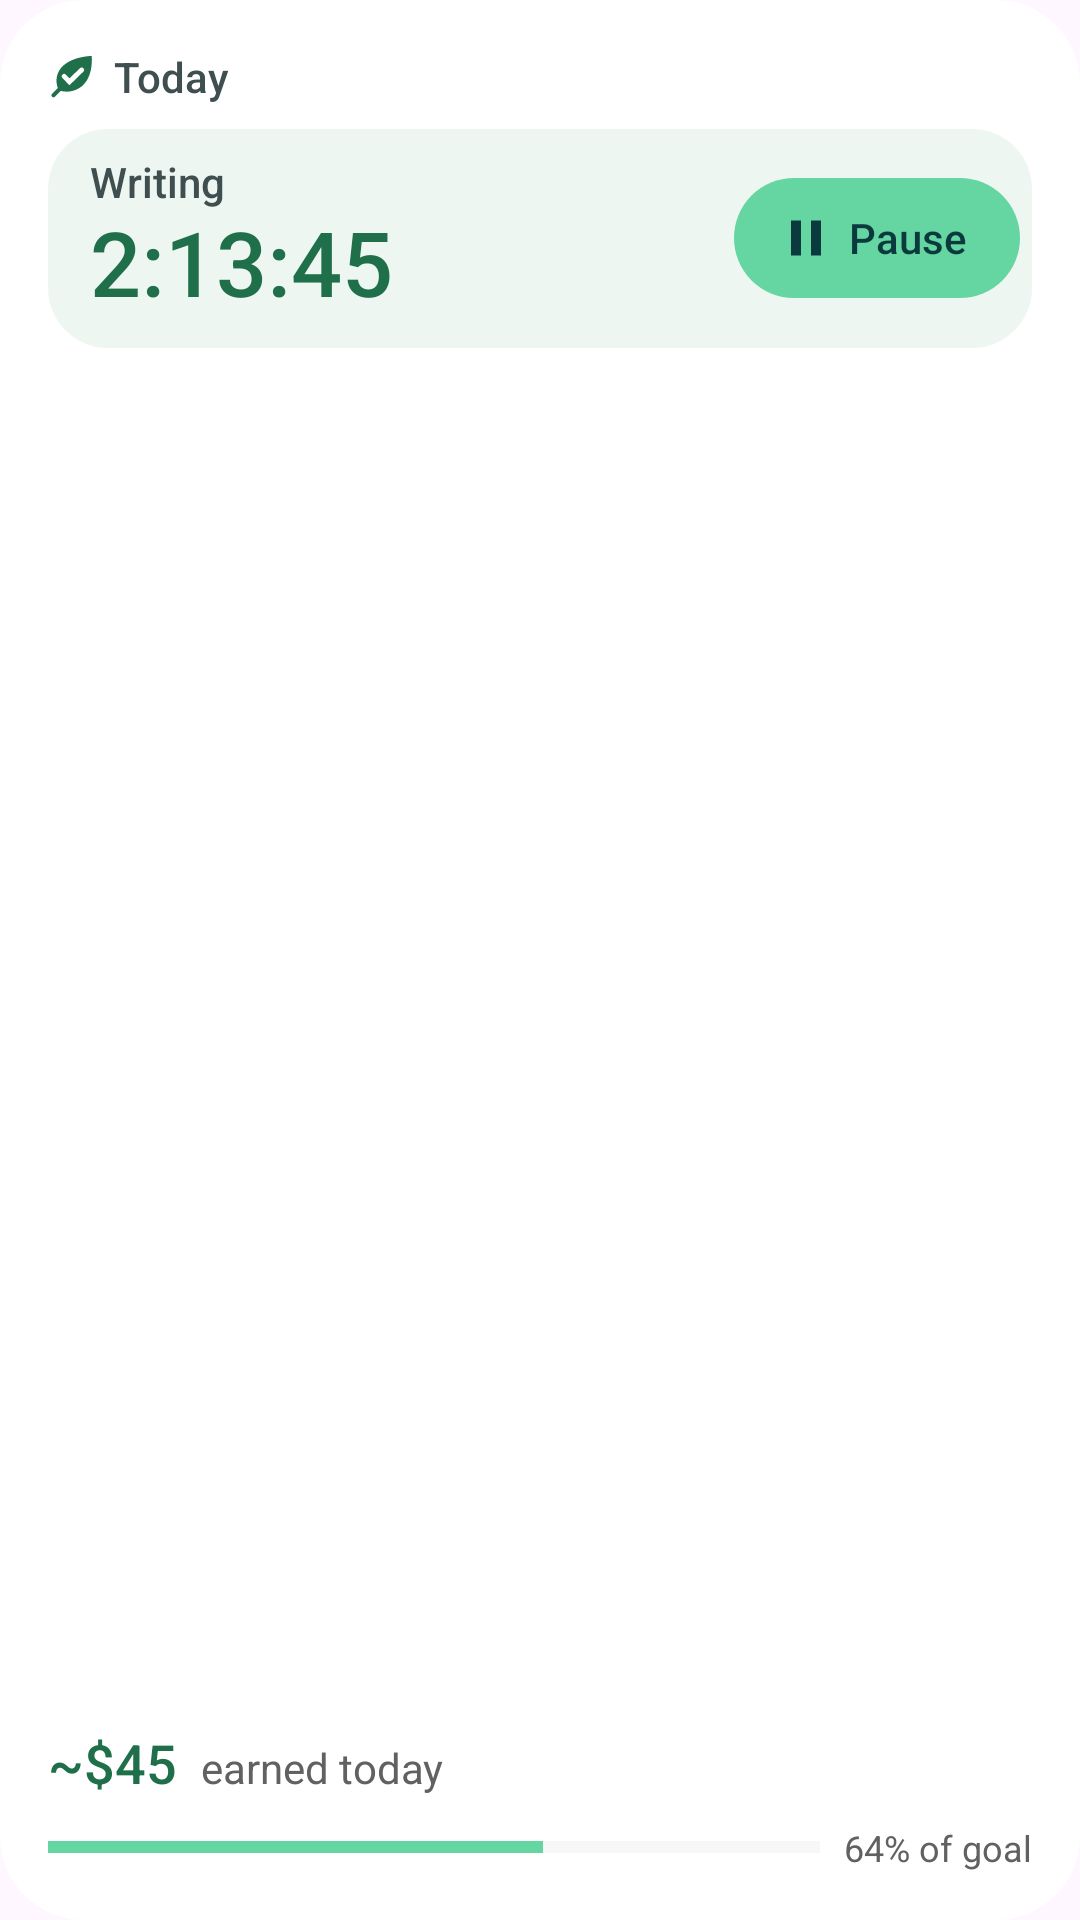

Point at icon controls on the screen. Image size 1080*1920, points as point (x, y).
taskmint: point (71, 77)
